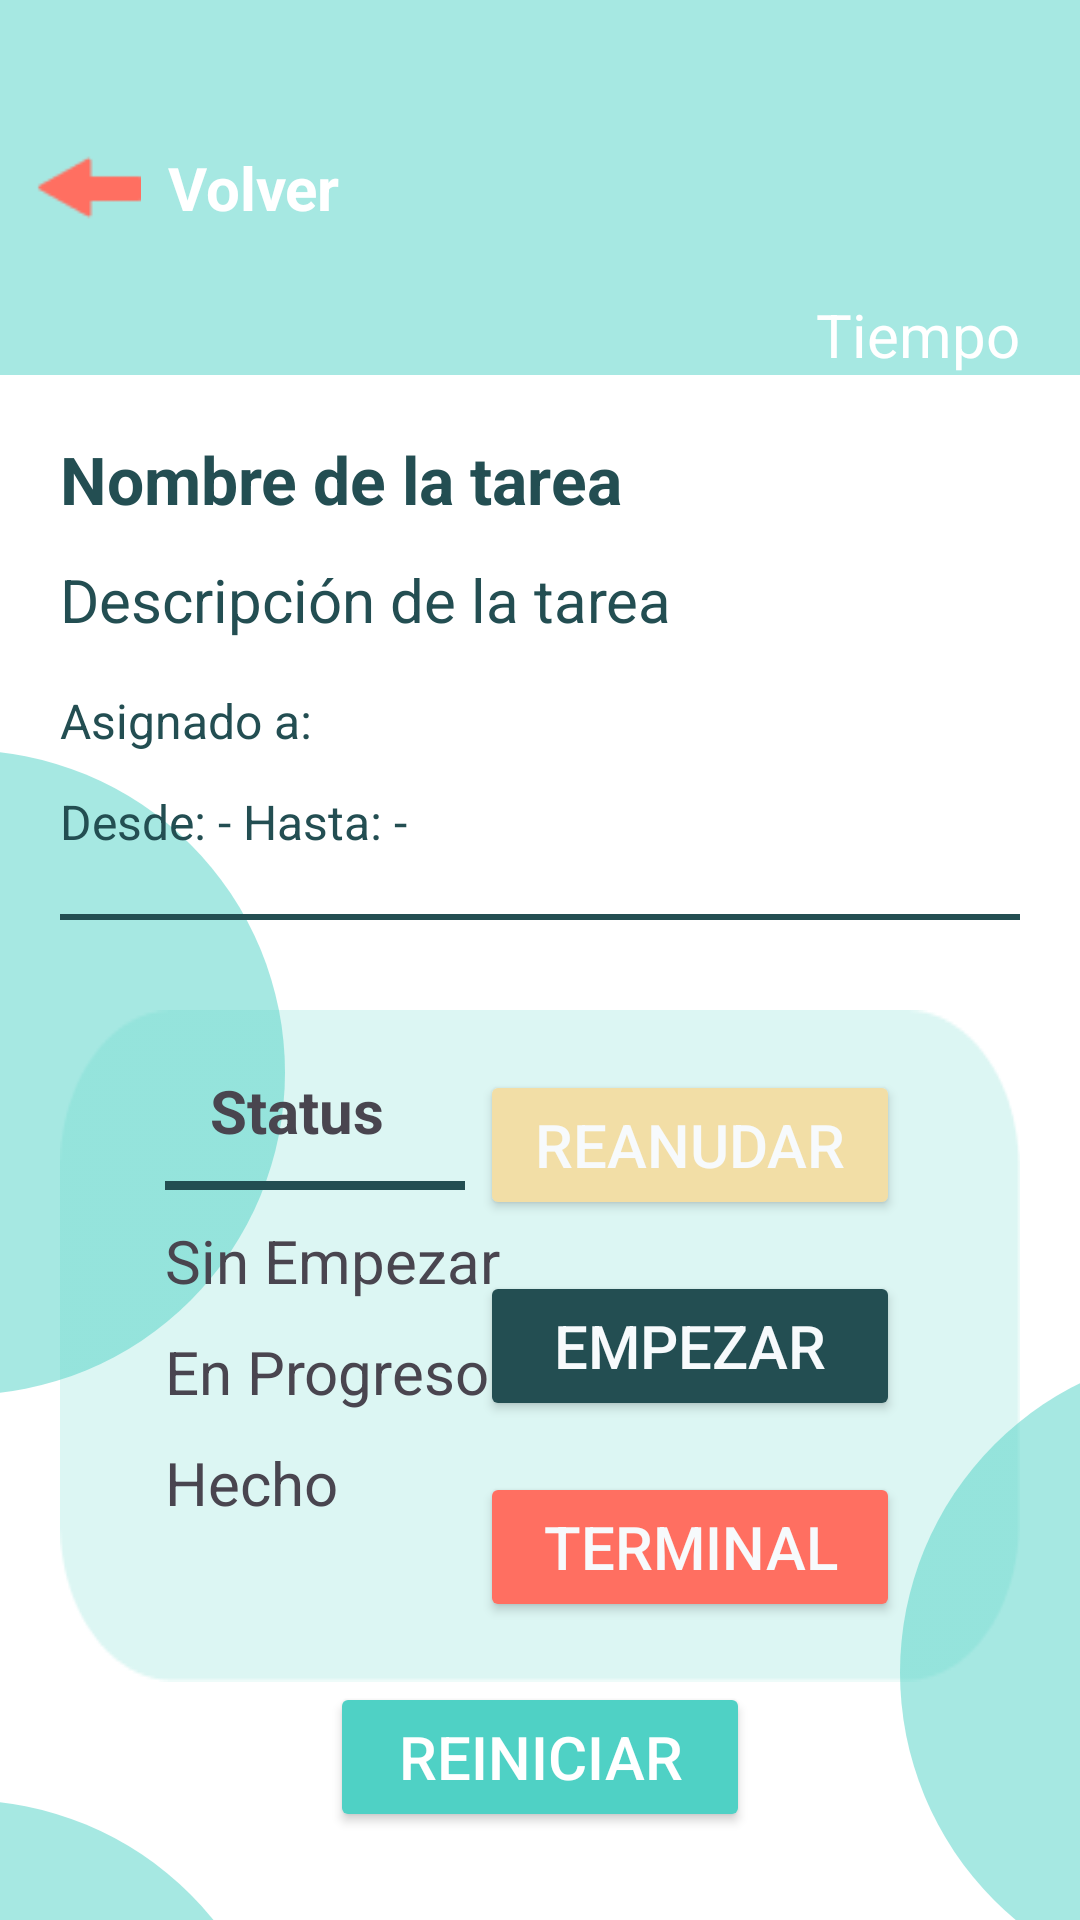

Icons on this 1080w x 1920h Android screen, each with its box as (x1, y1, x2, y2):
flecha: (38, 157, 141, 218)
